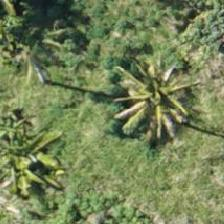coconut_tree: (114, 50, 204, 140), (0, 111, 64, 201)
